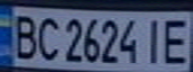2: (60, 15, 84, 63), (100, 16, 121, 65)
4: (118, 16, 142, 65)
6: (78, 16, 103, 64)
B: (6, 11, 42, 61)
C: (33, 12, 60, 62)
E: (160, 15, 193, 65)
I: (139, 15, 169, 65)
